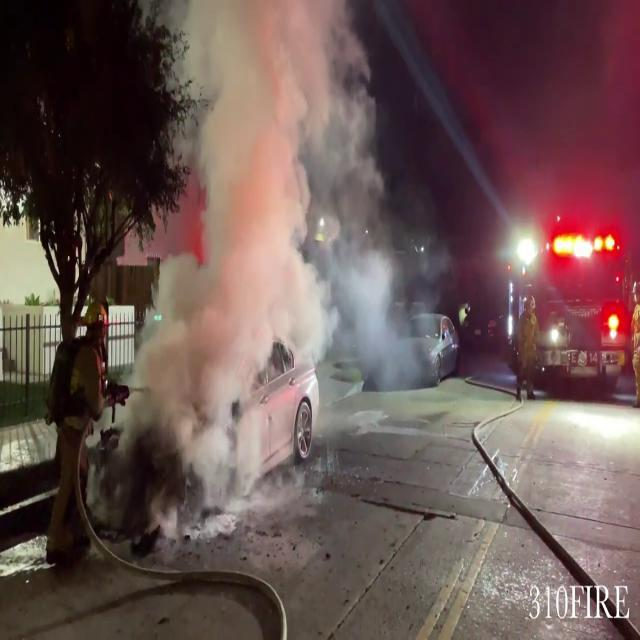Smoke: (103, 1, 419, 546)
